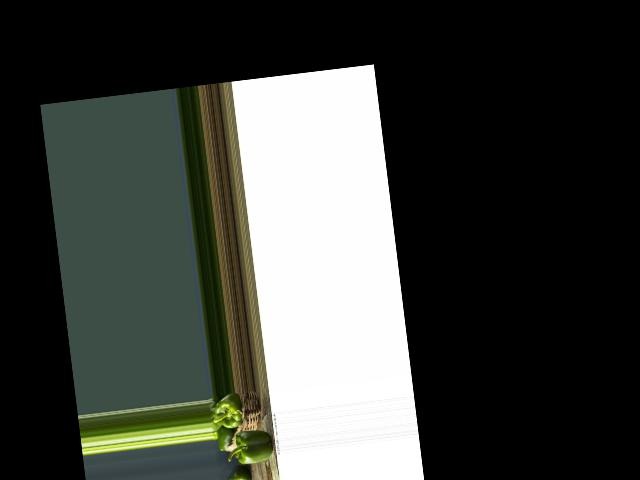bell_pepper: (226, 470, 248, 480)
